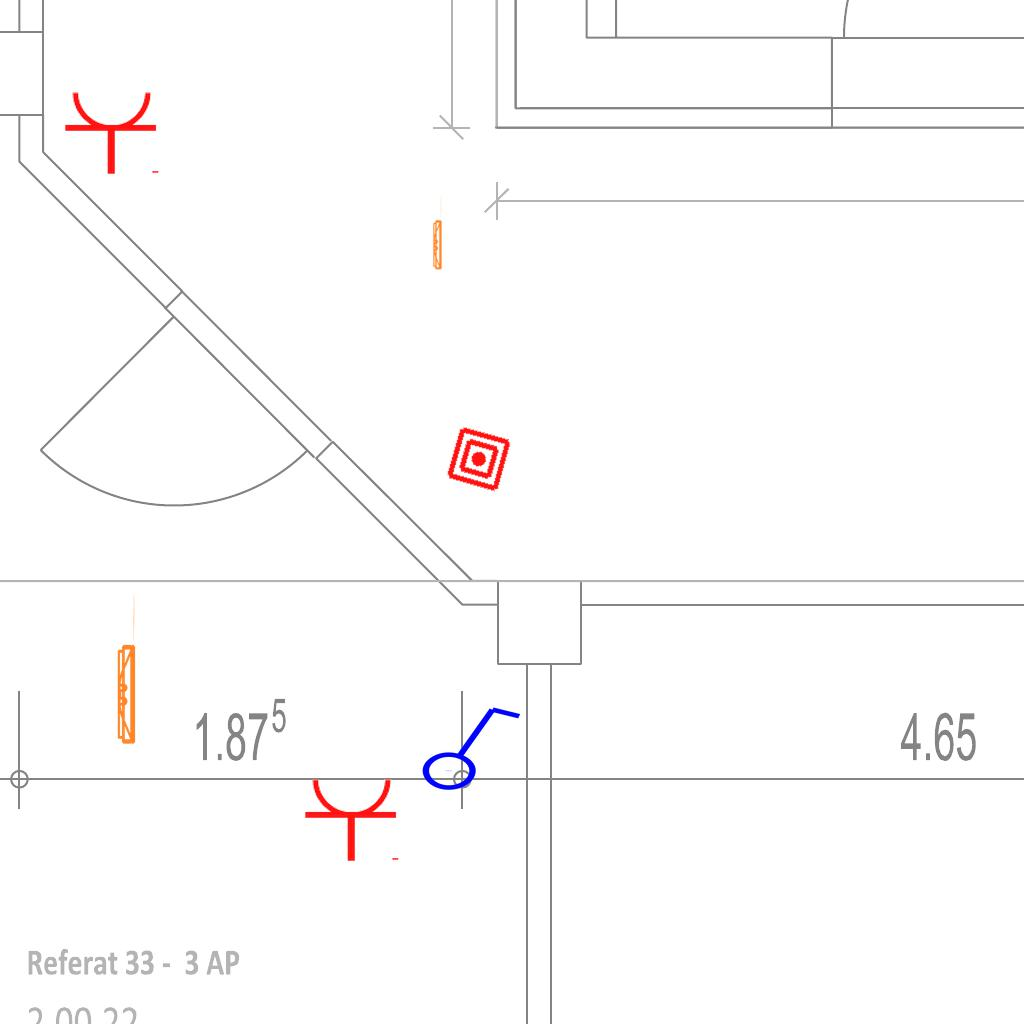Ausschalter: (411, 697, 523, 793)
NAM-Nichtautomatischer_Melder: (444, 424, 514, 494)
Schukosteckdose_einfach: (303, 776, 403, 863), (63, 89, 163, 176)
Sicherheitsleuchte_Wandeinbau: (113, 590, 138, 749), (431, 193, 443, 272)
